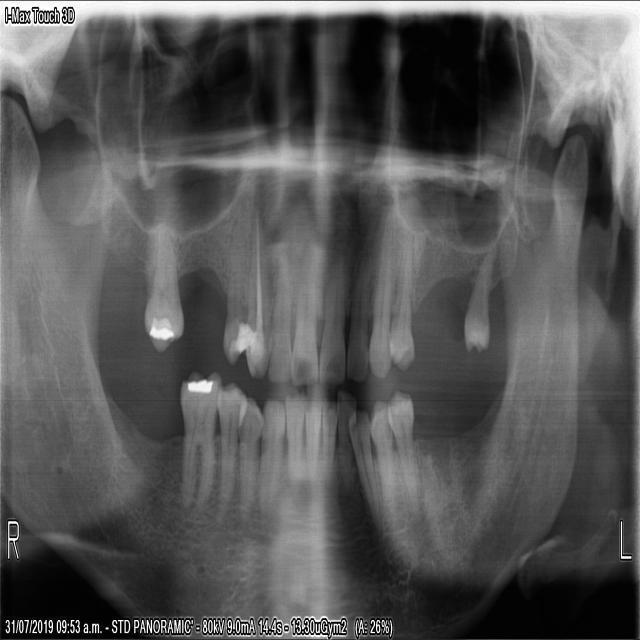LCD: (343, 403, 383, 535)
LCU: (365, 199, 398, 388)
LID: (333, 382, 356, 504), (318, 391, 339, 487)
LIU: (313, 232, 353, 388), (343, 221, 374, 385)
LMU: (459, 232, 495, 364)
LPMD: (383, 382, 422, 519), (367, 389, 400, 528)
LPMU: (383, 214, 419, 376)
RCD: (255, 390, 286, 521)
RCU: (243, 205, 270, 382)
RID: (280, 385, 306, 501), (302, 389, 323, 498)
RIU: (289, 235, 319, 392), (265, 230, 293, 388)
RMD: (175, 363, 222, 521)
RMU: (135, 213, 186, 361)
RPMD: (211, 375, 248, 535), (234, 389, 264, 524)
RPMU: (218, 206, 253, 367)
